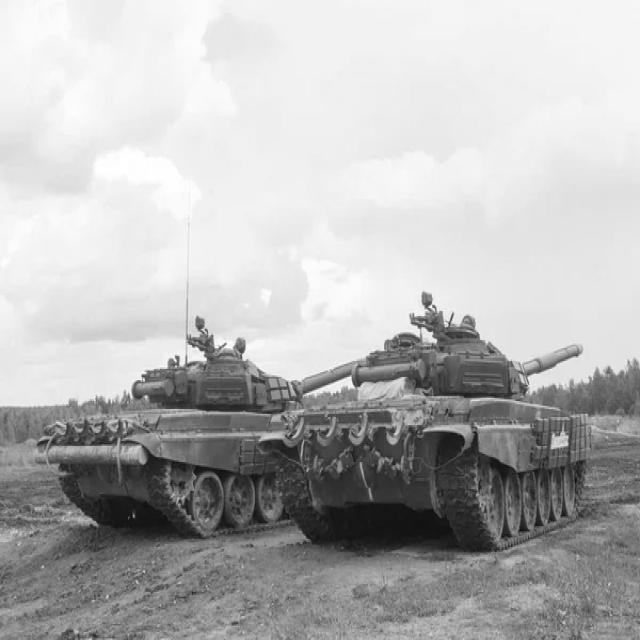Tank: (270, 297, 606, 552), (48, 317, 306, 521)
